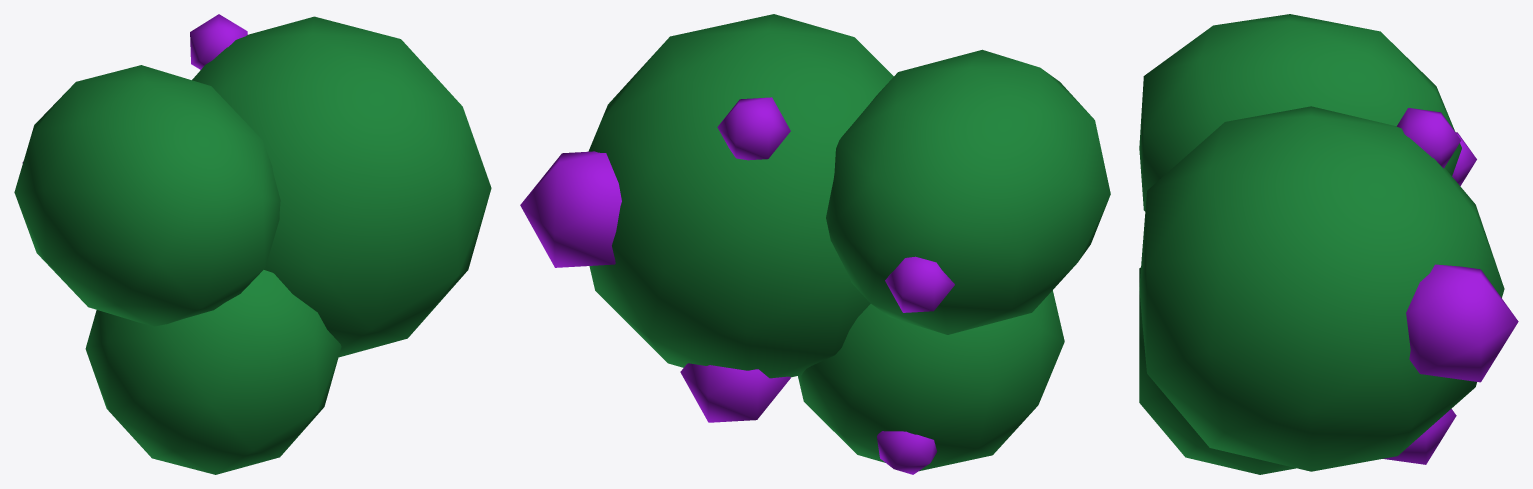
Rendered from berries.fbx.
3 views of the same model, side by side, from view 1: azimuth 30°, elevation 25°; view 2: azimuth 150°, elevation 25°; view 3: azimuth 270°, elevation 25° (orthographic). The views are drawn at different scales.
Visible parts, largest first — view 1: Icosphere.071; view 2: Icosphere.071; view 3: Icosphere.071.
Boxes of the visible parts, x1,y1,x2,y2 form: Icosphere.071: [14, 14, 491, 474]; Icosphere.071: [520, 14, 1110, 474]; Icosphere.071: [1139, 14, 1518, 474].
Size of the model in its own units: 967 by 829 by 686.
